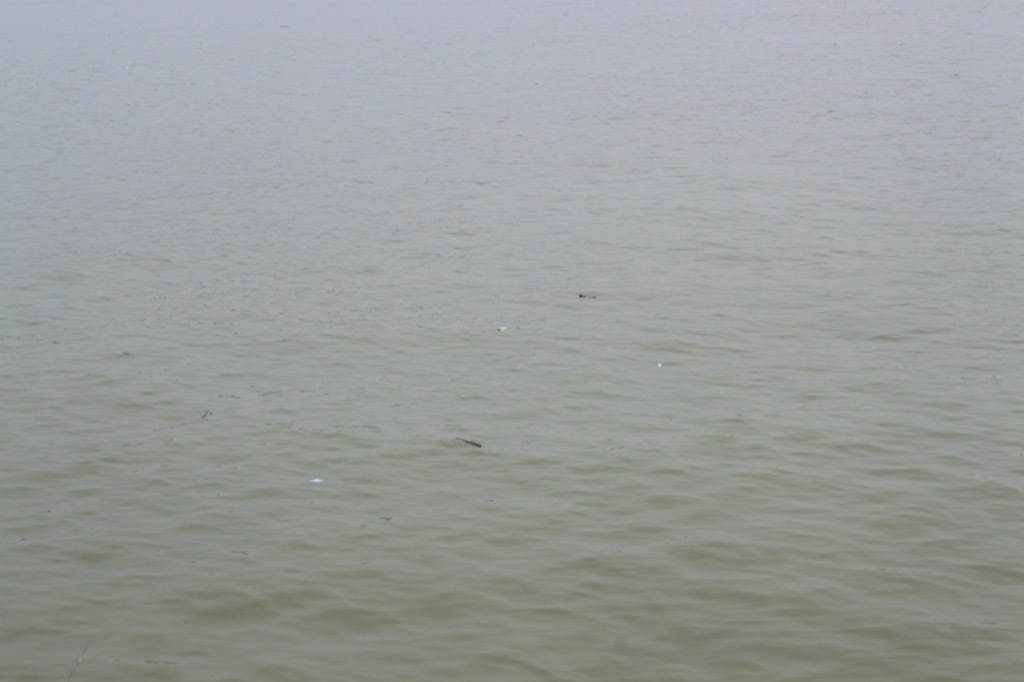organic: (447, 428, 489, 456), (571, 285, 604, 306)
plastic: (304, 471, 328, 487), (490, 320, 514, 335), (652, 357, 667, 373)
